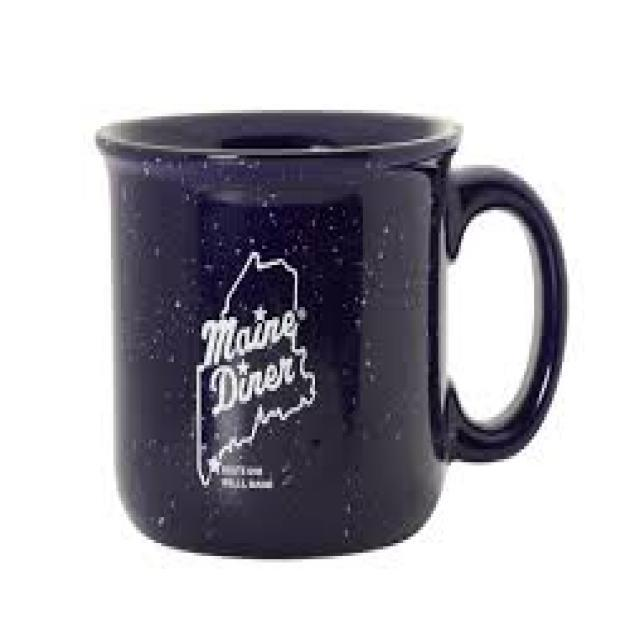taza: (93, 105, 571, 560)
